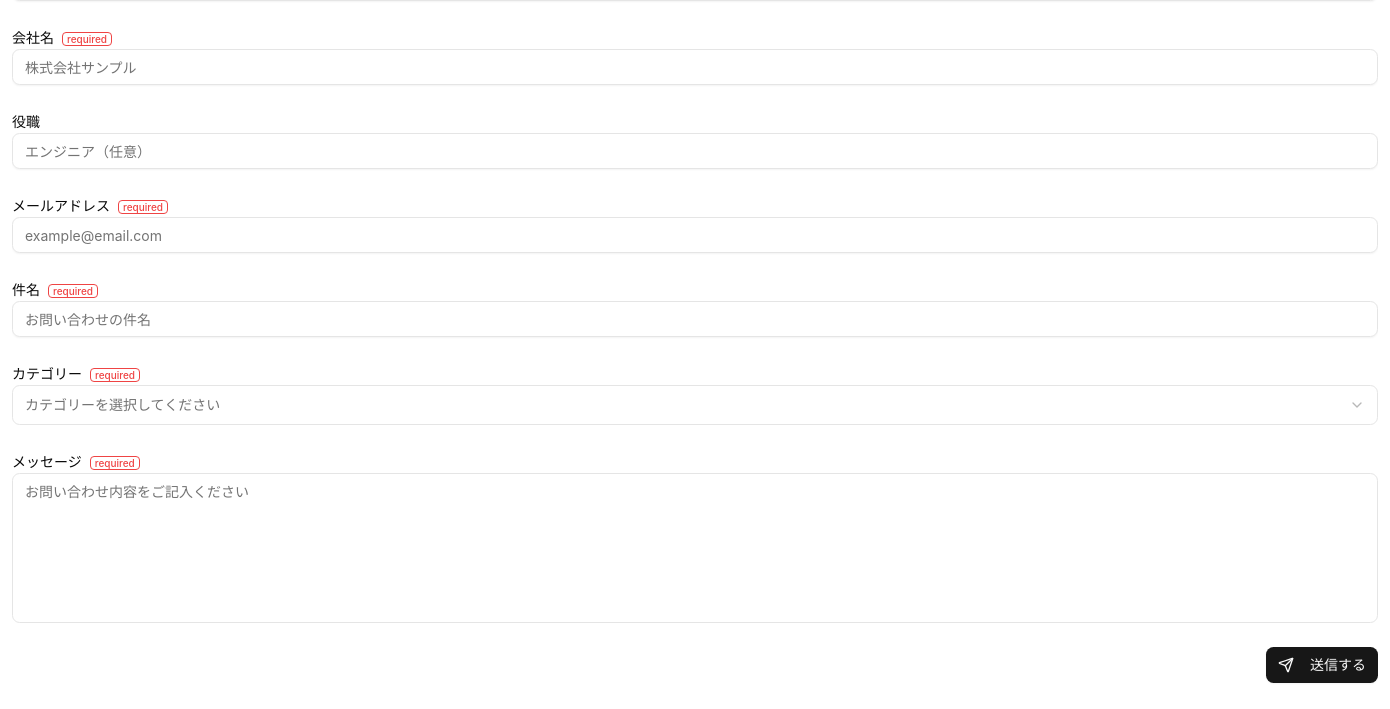
Scenario: ContactForm › Unit Test › should show validation error when message is empty
メッセージを入力せずに送信
Click the button "送信する": point(1322, 665) top-left (1266, 647), bottom-right (1378, 683)
(page scrolled)
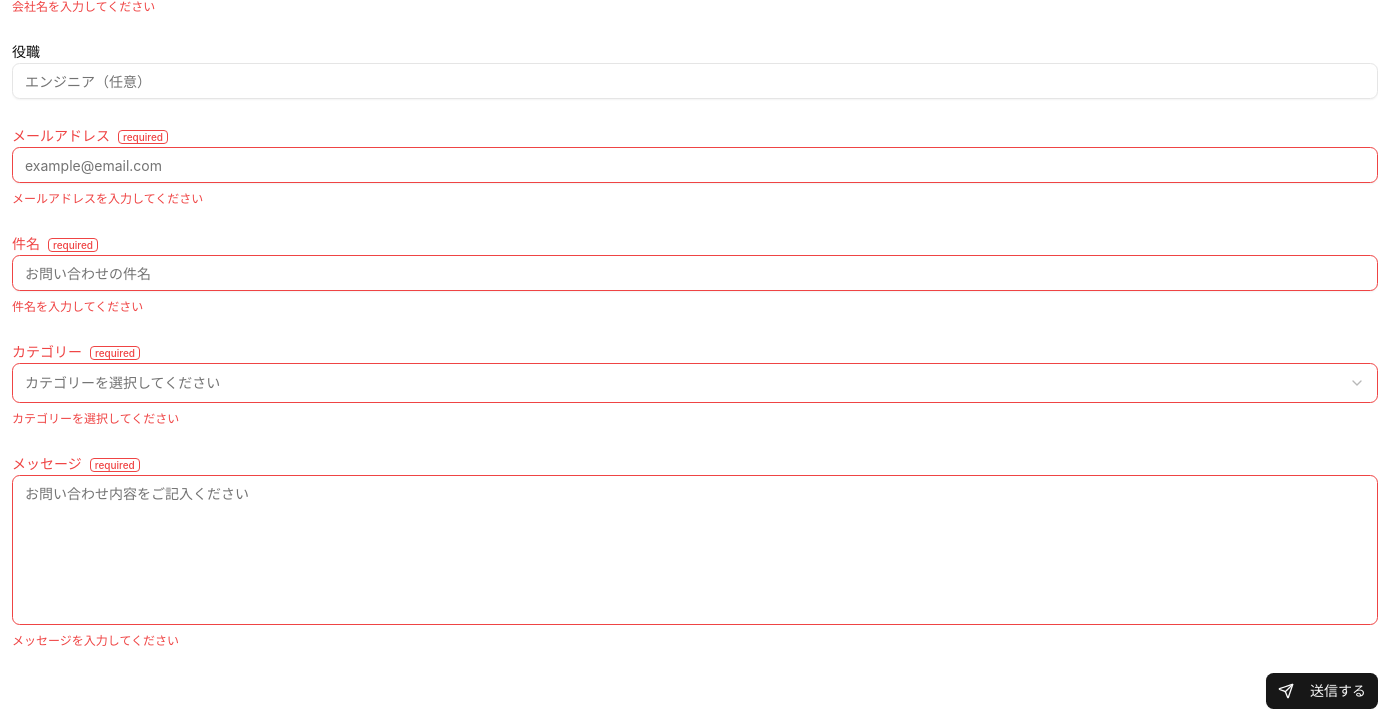
Expected: the text "メッセージを入力してください" is shown, top-left (12, 633), bottom-right (179, 648)
